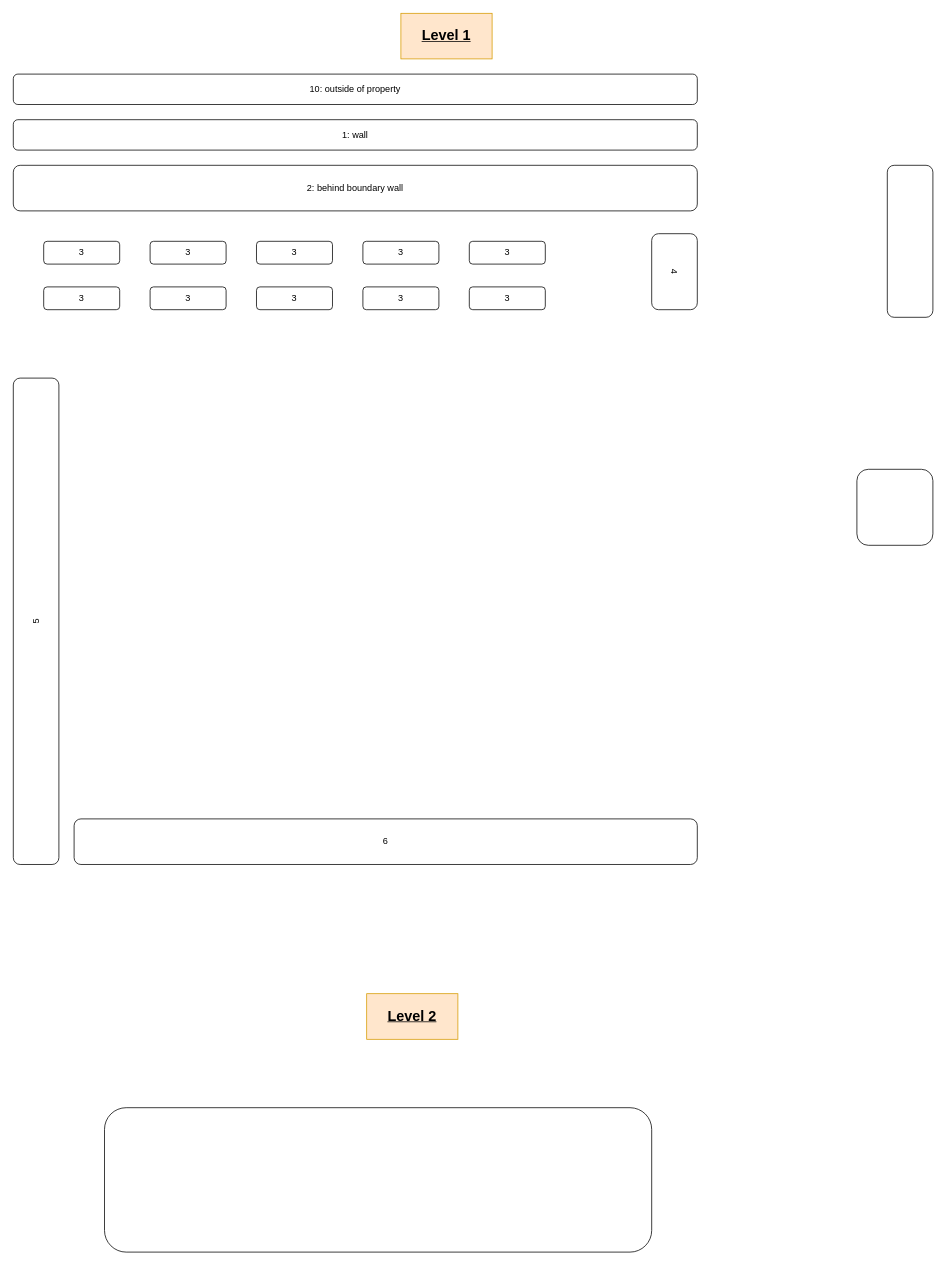
Image size: 946x1265. Some labels were removed from this diagram. The shapes that lost their labels are listed below. From the top down, each one's centre as x and y in pixels, then its label:
At pixel 910 241: "8: driveway".
At pixel 894 507: "7: open to planter bed or ground cover or tree here".
At pixel 378 1179: "9: Trellis/Pergola".
